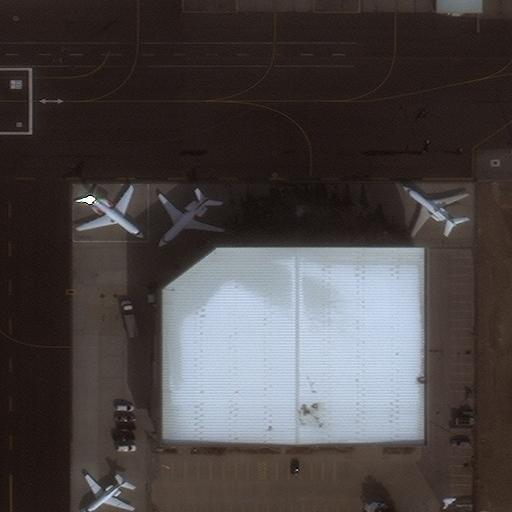Medium Civil Transport: (157, 195, 222, 247), (78, 187, 144, 238), (402, 185, 466, 235), (80, 477, 132, 512)
